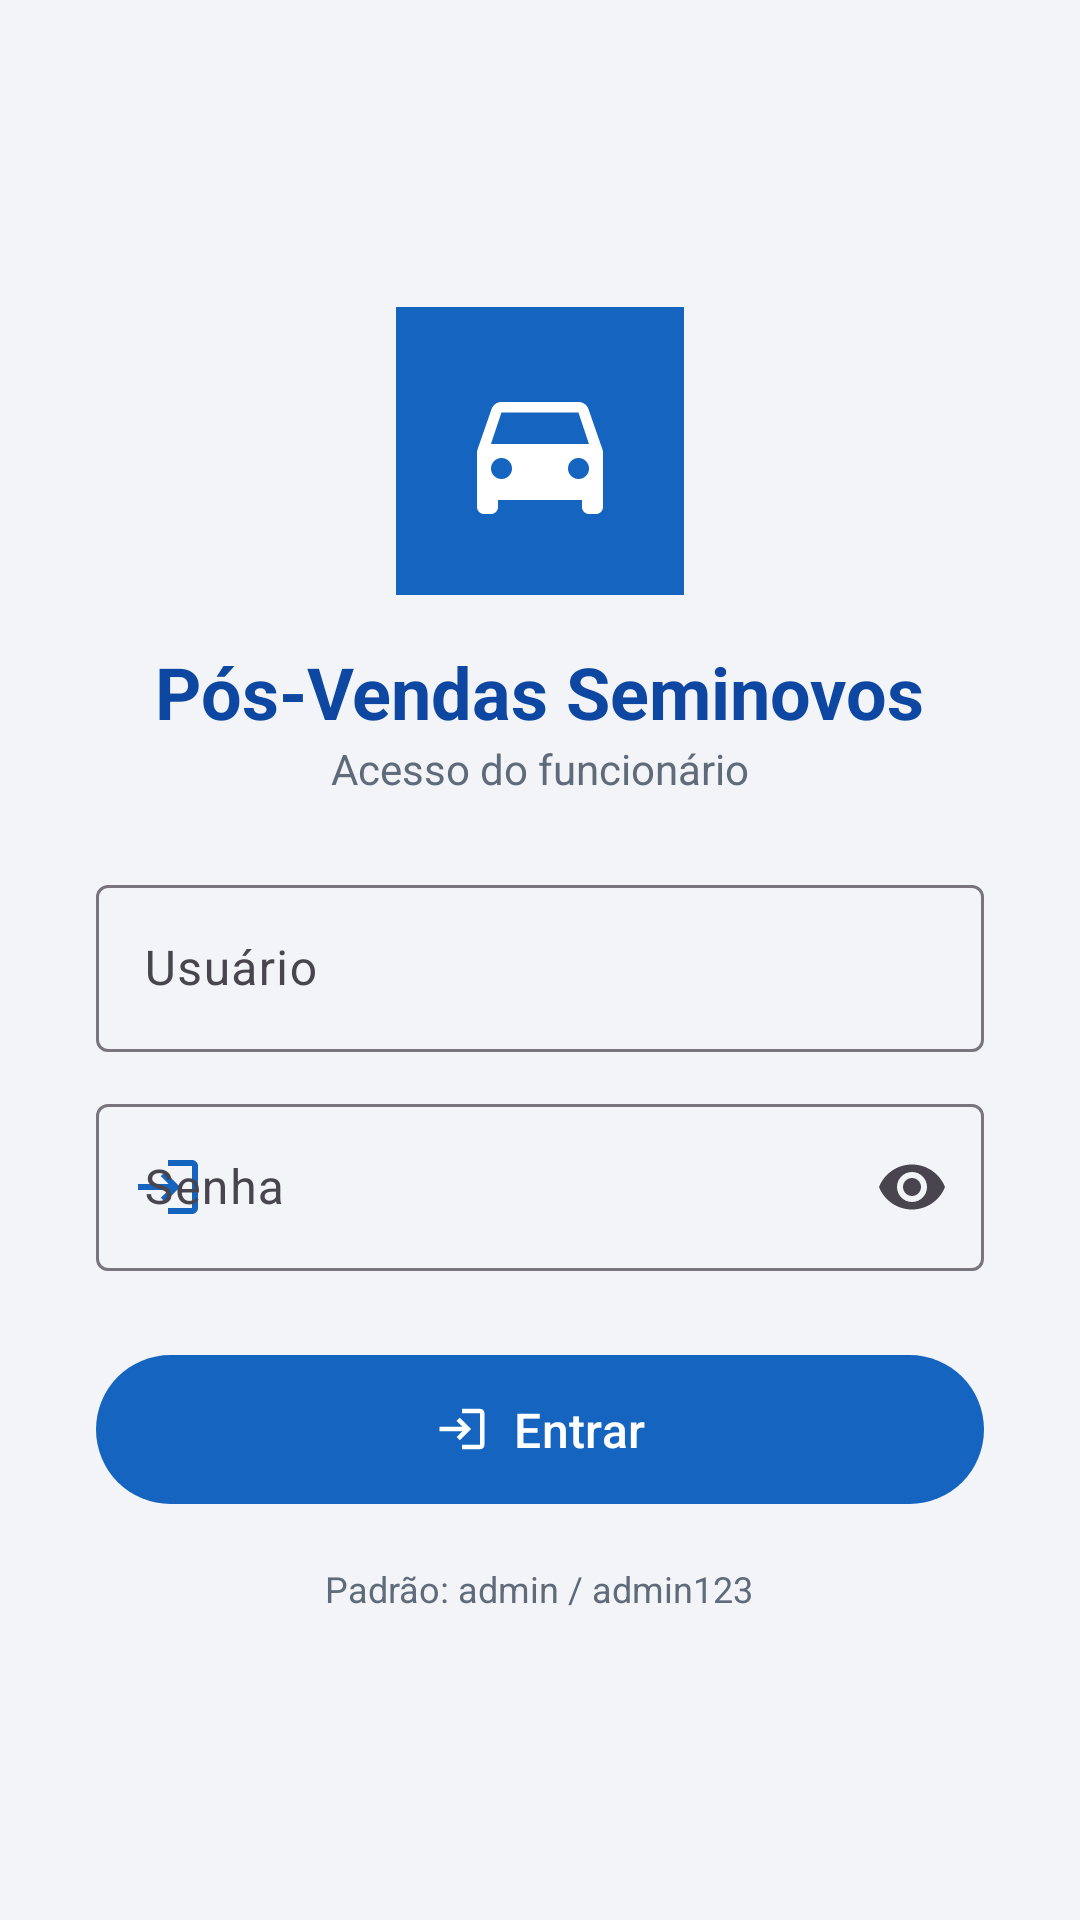

Where icons sit on this 1080×1920 app screen, as (x1, y1, x2, y2):
veiculo: (396, 307, 684, 595)
